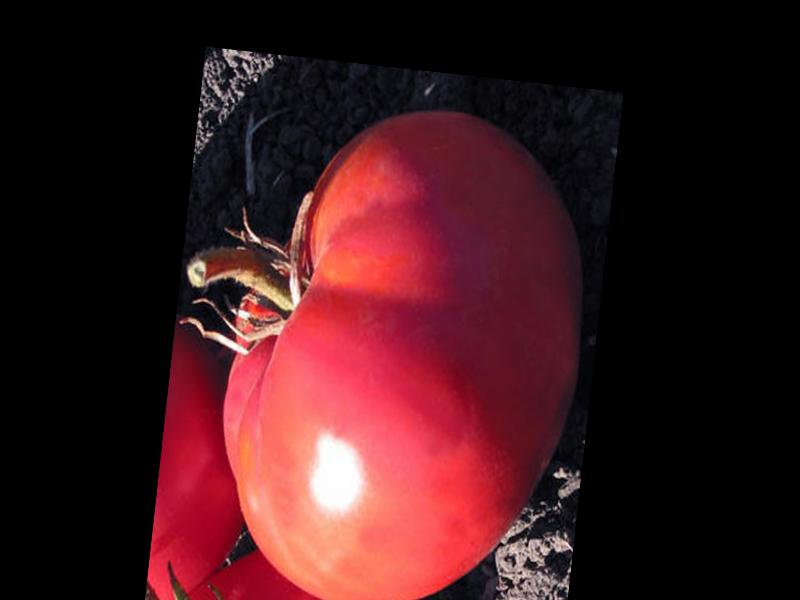Tomato: (205, 89, 603, 600)
